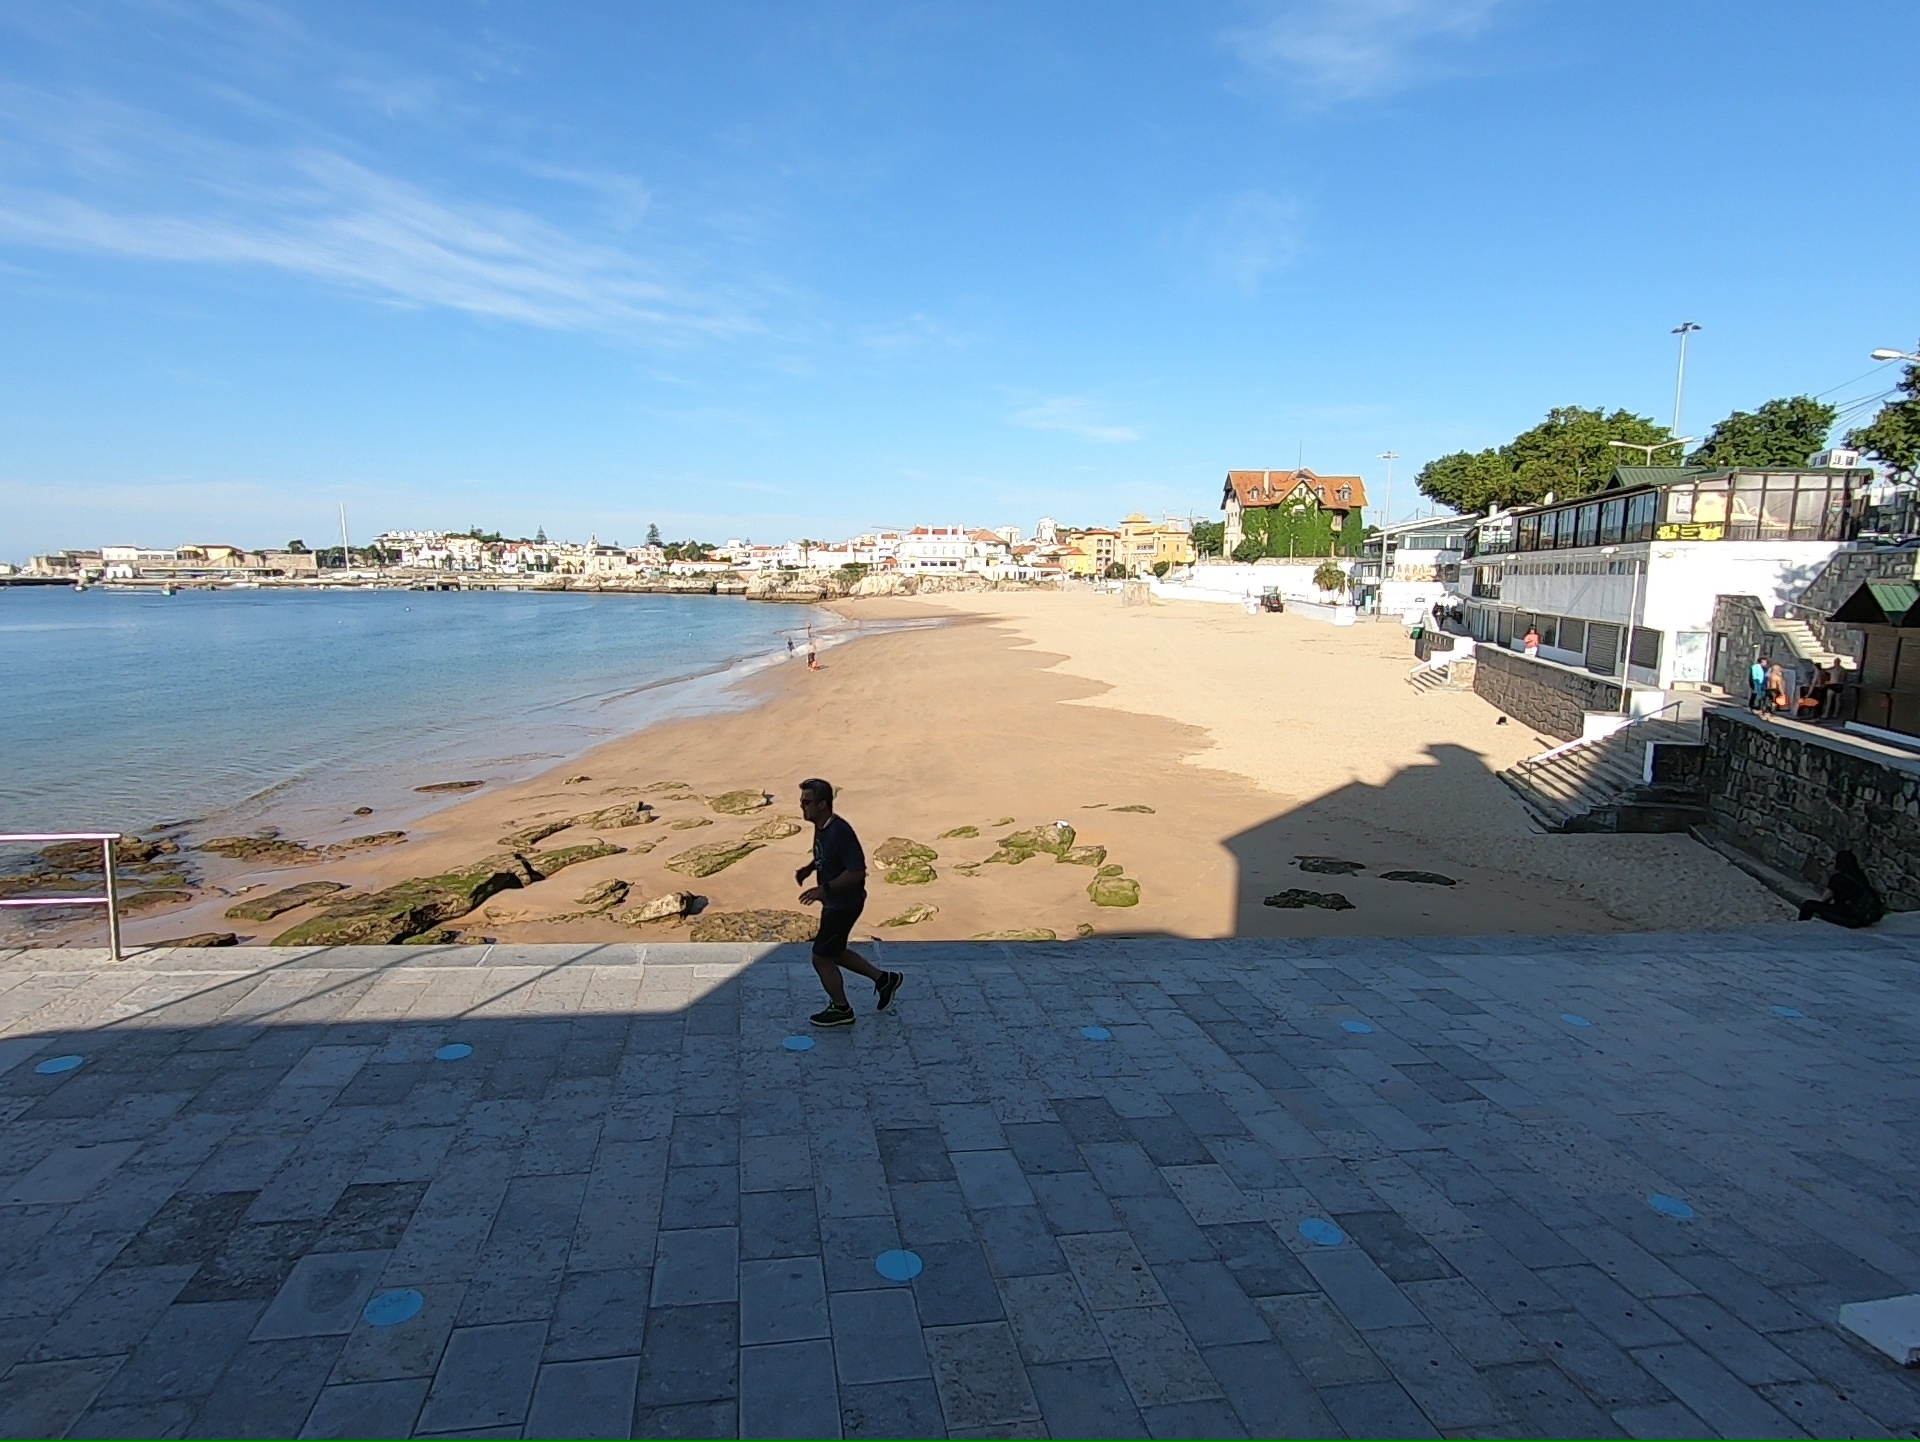person: (784, 778, 891, 1018), (1810, 850, 1884, 927), (1819, 656, 1844, 720), (1802, 662, 1823, 718), (1763, 662, 1785, 713), (1748, 658, 1761, 707), (1523, 626, 1539, 659), (805, 648, 819, 670), (786, 638, 795, 655)
